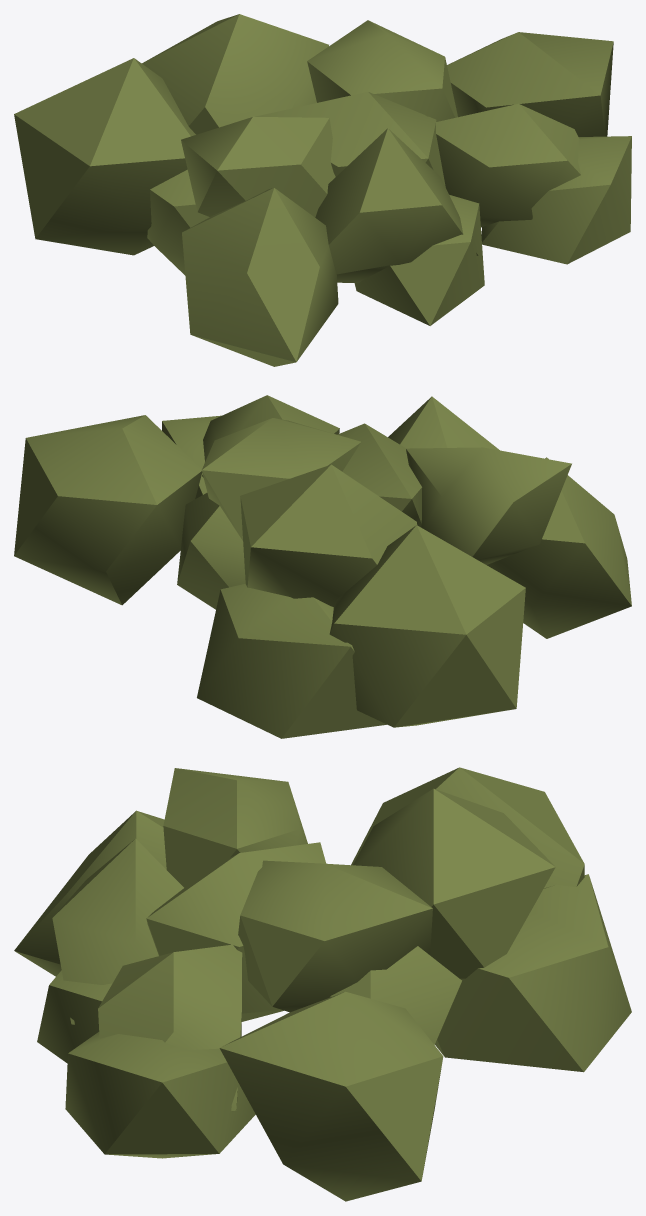
Rendered from bush_dense_b.glb.
3 renders of one model, top to bottom at view 1: azimuth 30°, elevation 25°; view 2: azimuth 150°, elevation 25°; view 3: azimuth 270°, elevation 25°, orthographic. The views are drawn at different scales.
Parts seen in each view (by area): view 1: bush_mesh; view 2: bush_mesh; view 3: bush_mesh.
Part boxes in pixels (box(x1,y1,x2,y2)): bush_mesh: box(14, 14, 631, 366); bush_mesh: box(14, 395, 631, 738); bush_mesh: box(14, 767, 631, 1201).
Size of what is drawn, in the model's own units: 2.55 by 1.16 by 2.14.
